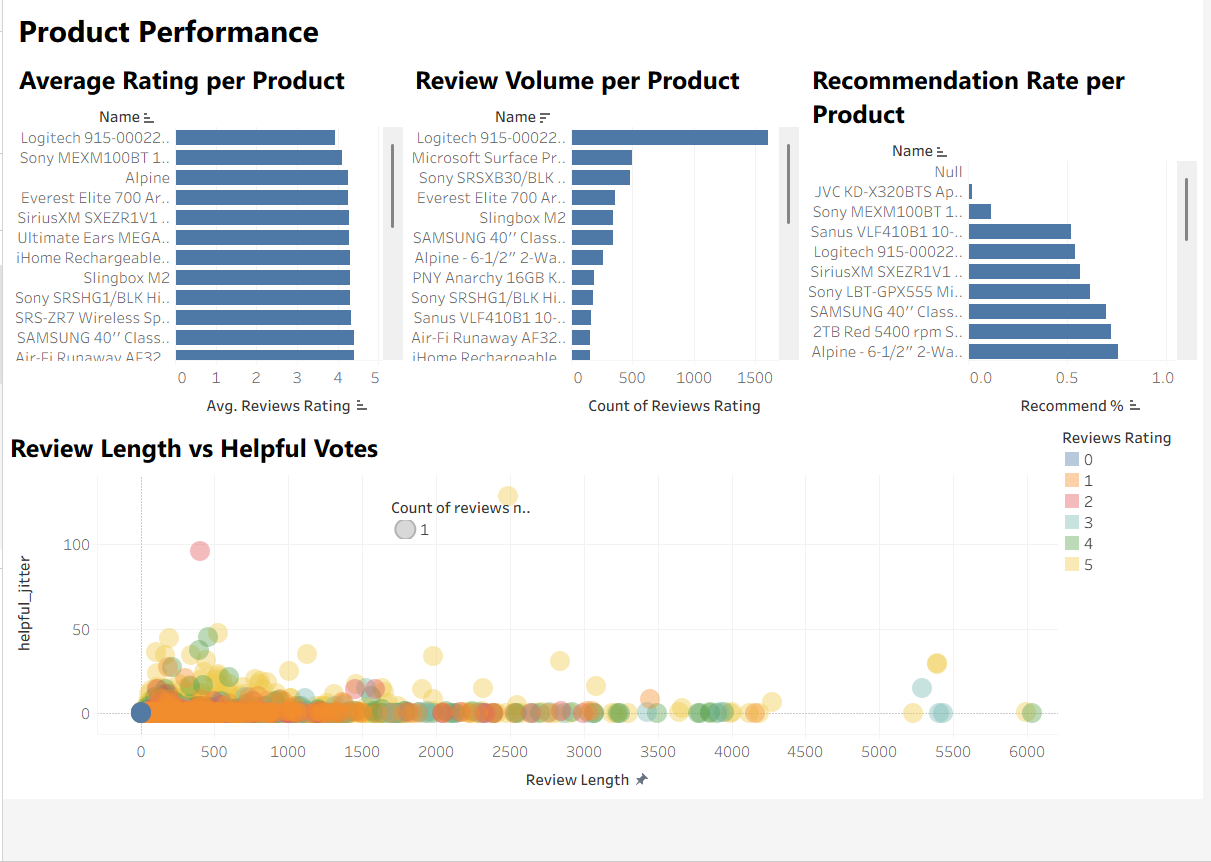

What the dashboard file says about the page in this screenshot:
{"tool":"tableau","page":{"name":"Dashboard 2","canvas":[1200,800],"ordinal":1},"visuals":[{"type":"title","box":[8,8,1184,46]},{"type":"worksheet","title":"Sheet 8","mark":"Bar","rows":["name"],"cols":["reviews_rating"],"box":[8,55,396.5,373]},{"type":"worksheet","title":"Sheet 9","mark":"Automatic","rows":["name"],"cols":["reviews_rating"],"box":[404.5,55,396.5,373]},{"type":"worksheet","title":"Sheet 10","mark":"Bar","rows":["name"],"cols":["Calculation_190558586061221890"],"box":[801,55,397,373]},{"type":"worksheet","title":"Sheet 11","mark":"Circle","rows":["Calculation_264023555452792832"],"cols":["review_length"],"box":[3,427,1052,371]},{"type":"legend","title":"Sheet 11","param":"[federated.1icez050jek3vm11lolbb1hnjdck].[none:reviews_rating:ok]","box":[1059,428,140,148]},{"type":"legend","title":"Sheet 11","param":"[federated.1icez050jek3vm11lolbb1hnjdck].[cnt:reviews_numHelpful:qk]","box":[388,498,140,43]}]}

Visuals, with their boxes on the page's 1200x800 design canvas (x1, y1, x2, y2). These are canvas units, not pixel positions in the 1211x862 screenshot, which may show the page scaled, cropped or inside an application window:
title: [left=8, top=8, right=1192, bottom=54]
"Sheet 8" worksheet (Bar marks): [left=8, top=55, right=404, bottom=428]
"Sheet 9" worksheet: [left=404, top=55, right=801, bottom=428]
"Sheet 10" worksheet (Bar marks): [left=801, top=55, right=1198, bottom=428]
"Sheet 11" worksheet (Circle marks): [left=3, top=427, right=1055, bottom=798]
"Sheet 11" legend: [left=1059, top=428, right=1199, bottom=576]
"Sheet 11" legend: [left=388, top=498, right=528, bottom=541]
